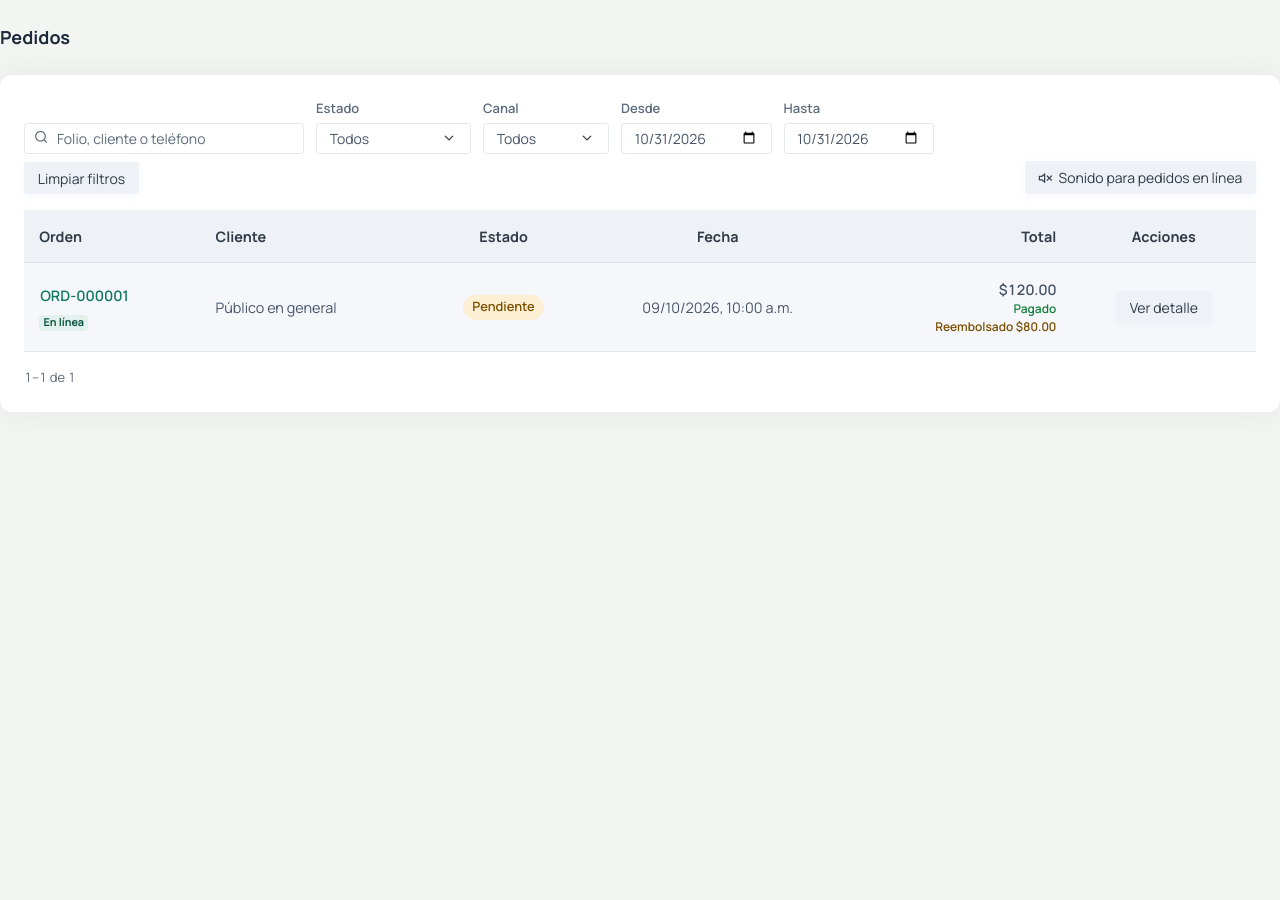
OrdersList › warns of a payment in dispute and says where each refund made in Mercado Pago came from (Fase 24K)
The width and height of the screenshot is (1280, 900).
Click the button "ORD-000001": (84, 296) [39, 284, 130, 308]
(page scrolled)
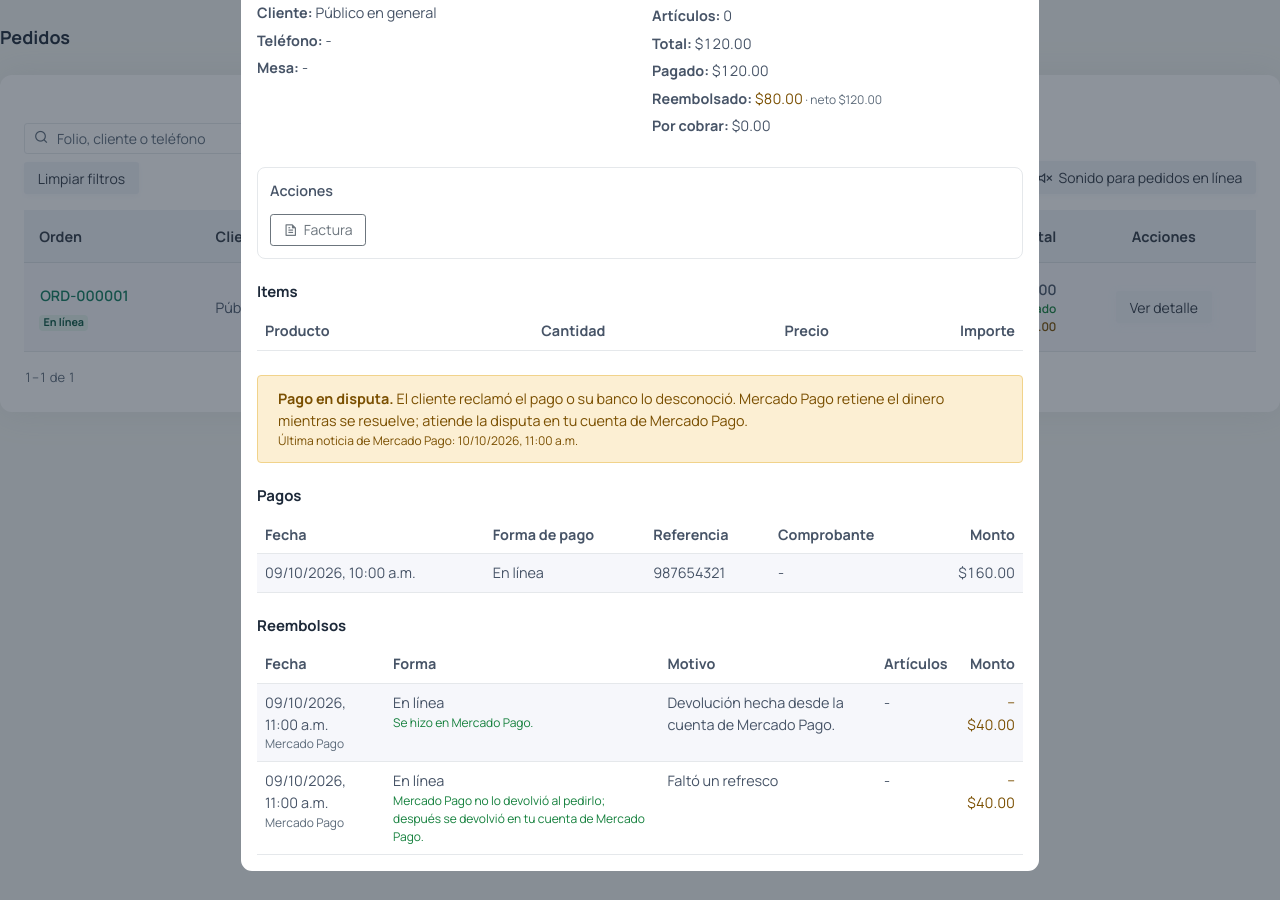
Now the text "Última noticia de Mercado Pago: 10/10/2026, 11:00 a.m." is shown, box [278, 432, 578, 449]
